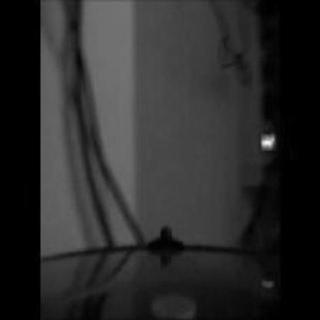other: (257, 123, 287, 163), (245, 274, 283, 292)
